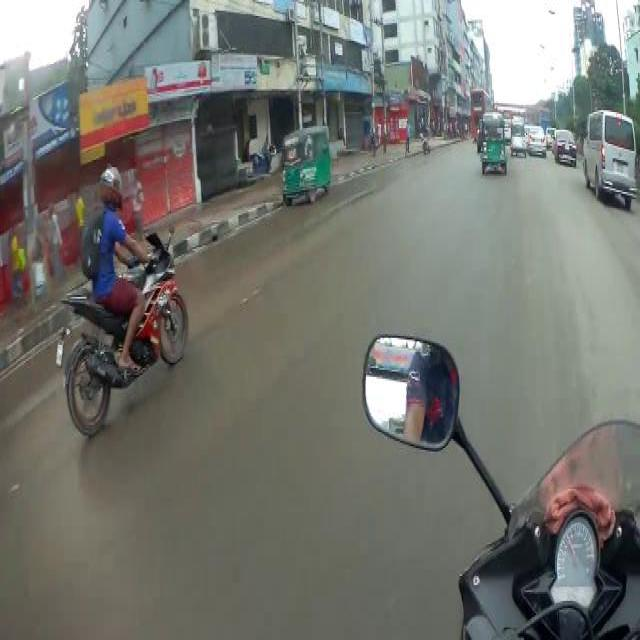motorbike: (52, 160, 200, 444)
three wheelers -CNG-: (278, 123, 334, 208), (476, 110, 510, 182), (508, 114, 528, 164)
van: (580, 106, 638, 210)
